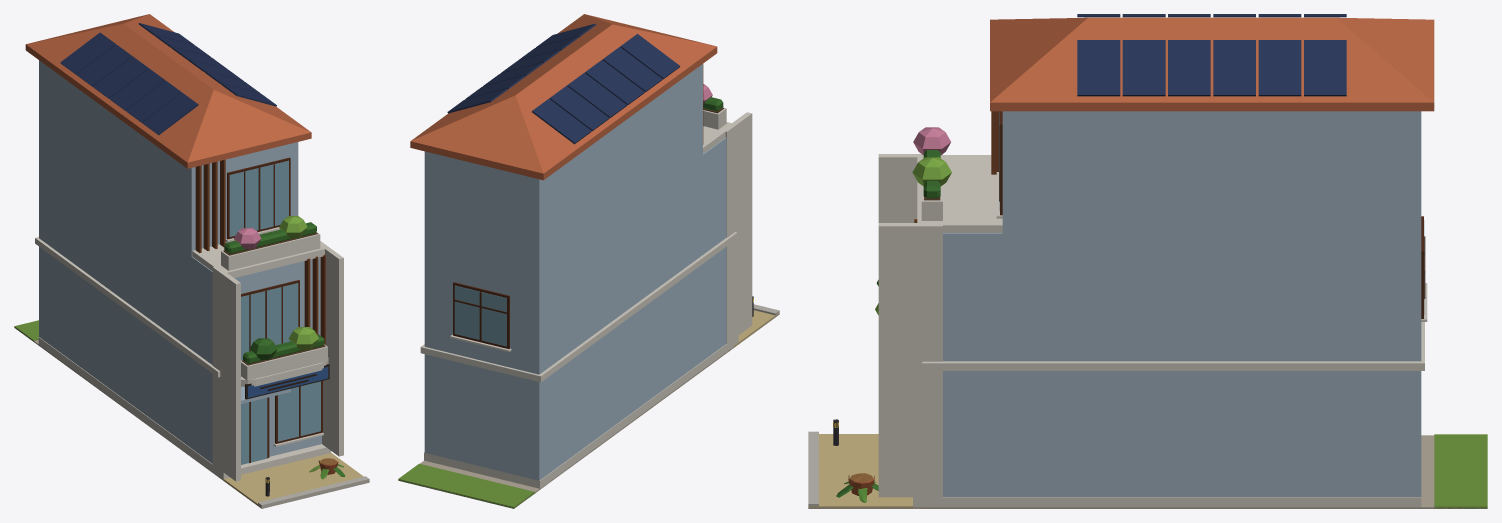
The model's file is bay1_mid.glb.
3 renders of one model, left to right at view 1: azimuth 30°, elevation 25°; view 2: azimuth 150°, elevation 25°; view 3: azimuth 270°, elevation 25°, orthographic. The views are drawn at different scales.
Visible parts, largest first — view 1: body; view 2: body; view 3: body.
Part boxes in pixels (<box>): body: <box>14,14,369,508</box>; body: <box>398,14,779,508</box>; body: <box>808,14,1487,508</box>.
Size of the model in its own units: 4.6 by 11.76 by 15.9.
